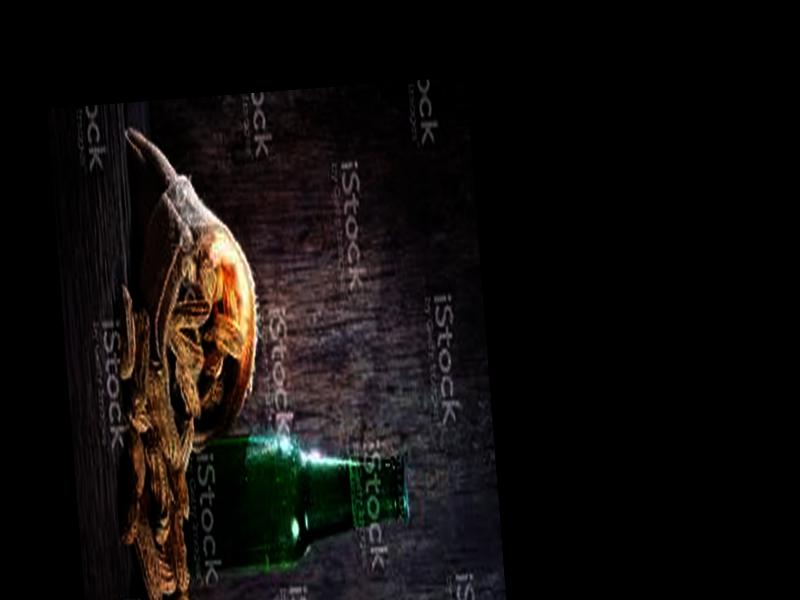Beer: (160, 419, 415, 575)
